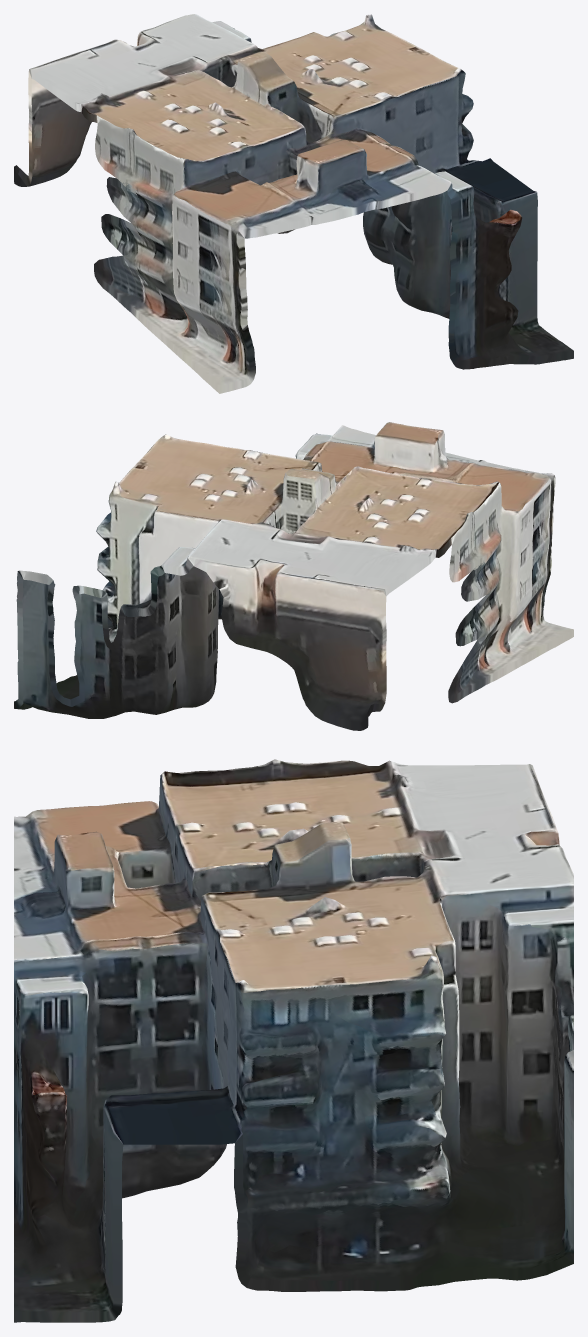
Rendered from z20-167726-405197-h0-yup-uvflip-v3-world.glb.
3 renders of one model, top to bottom at view 1: azimuth 30°, elevation 25°; view 2: azimuth 150°, elevation 25°; view 3: azimuth 270°, elevation 25°, orthographic. The views are drawn at different scales.
Bounding box in the file's own units: 30.16 × 21.48 × 30.32.
Materials: 1 (1 with a texture image).
